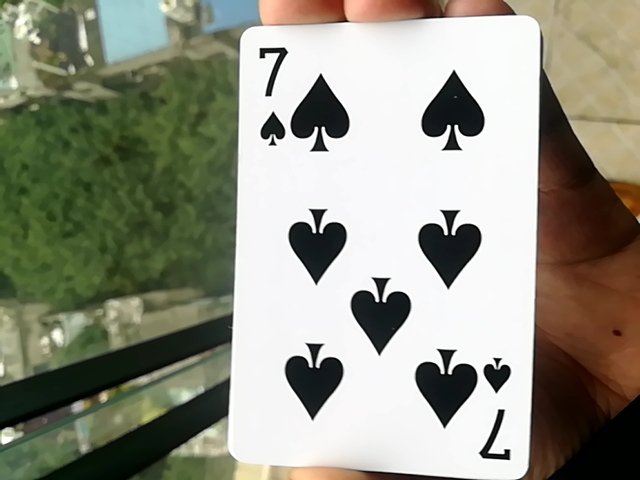ht 7: (222, 29, 555, 479)
